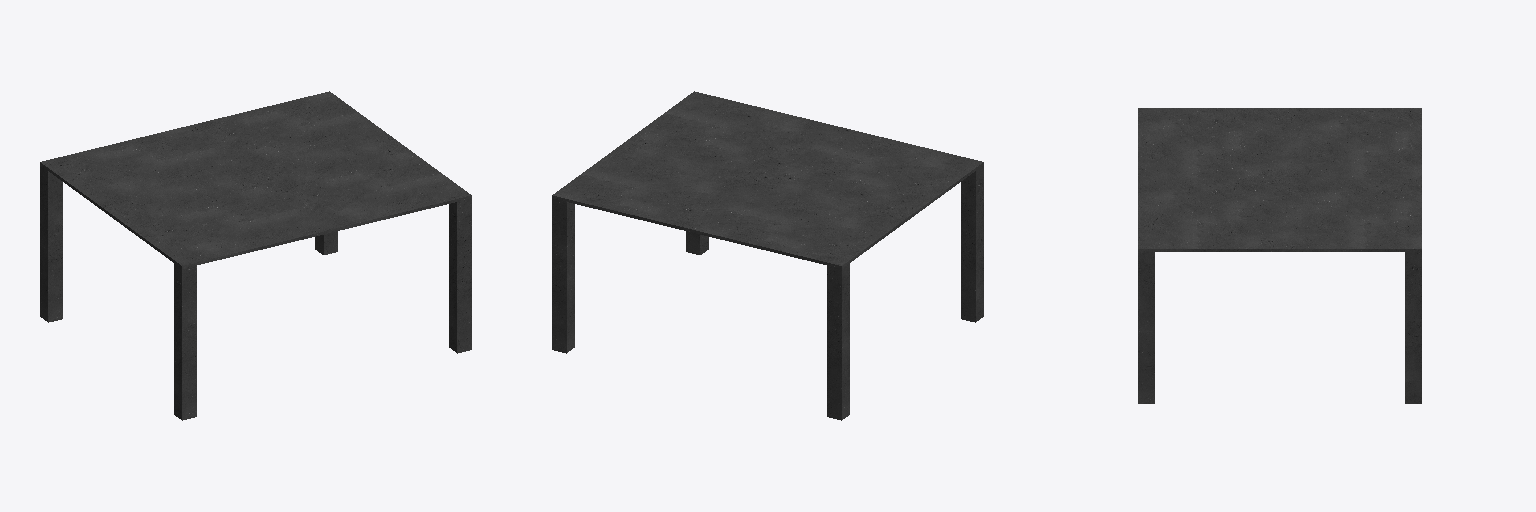
3 views of the same model, side by side, from view 1: azimuth 30°, elevation 25°; view 2: azimuth 150°, elevation 25°; view 3: azimuth 270°, elevation 25° (orthographic).
Visible parts, largest first — view 1: Desk-000; view 2: Desk-000; view 3: Desk-000.
Boxes of the visible parts, x1,y1,x2,y2 form: Desk-000: [40, 91, 471, 420]; Desk-000: [552, 91, 983, 420]; Desk-000: [1138, 108, 1421, 403].
Size of the model in its own units: 2 by 1.02 by 1.7.
Materials: 1 (1 with a texture image).